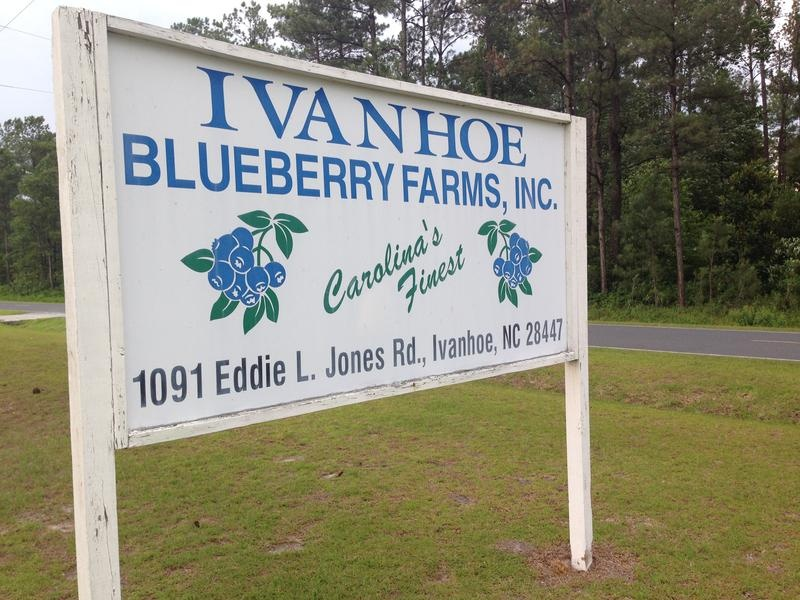text: (321, 206, 336, 323), (337, 206, 352, 323), (353, 206, 368, 323), (369, 206, 384, 323), (385, 206, 400, 323), (401, 206, 416, 323), (417, 206, 432, 323), (433, 206, 448, 323), (193, 66, 208, 169), (209, 66, 224, 169), (225, 66, 240, 169), (241, 66, 256, 169), (257, 66, 272, 169), (273, 66, 288, 169), (289, 66, 304, 169), (305, 66, 320, 169), (321, 66, 336, 169), (337, 66, 352, 169), (353, 66, 368, 169), (369, 66, 384, 169), (385, 66, 400, 169), (401, 66, 416, 169), (417, 66, 432, 169), (433, 66, 448, 169), (449, 66, 464, 169), (465, 66, 480, 169), (481, 66, 496, 169), (497, 66, 512, 169), (513, 66, 528, 169), (393, 242, 408, 319), (409, 242, 424, 319), (425, 242, 440, 319), (441, 242, 456, 319), (457, 242, 472, 319), (115, 132, 130, 203), (131, 132, 146, 203), (147, 132, 162, 203), (163, 132, 178, 203), (179, 132, 194, 203), (195, 132, 210, 203), (211, 132, 226, 203), (227, 132, 242, 203), (243, 132, 258, 203), (259, 132, 274, 203), (275, 132, 290, 203), (291, 132, 306, 203), (307, 132, 322, 203), (323, 132, 338, 203), (339, 132, 354, 203), (355, 132, 370, 203), (371, 132, 386, 203), (387, 132, 402, 203), (399, 165, 414, 217), (415, 165, 430, 217), (431, 165, 446, 217), (447, 165, 462, 217), (463, 165, 478, 217), (479, 165, 494, 217), (495, 165, 510, 217), (128, 361, 143, 410), (144, 361, 159, 410), (160, 361, 175, 410), (176, 361, 191, 410), (192, 361, 207, 410), (211, 351, 226, 397), (227, 351, 242, 397), (243, 351, 258, 397), (259, 351, 274, 397), (275, 351, 290, 397), (423, 326, 438, 363), (439, 326, 454, 363), (455, 326, 470, 363), (471, 326, 486, 363), (487, 326, 502, 363), (291, 350, 306, 386), (307, 350, 322, 386), (512, 176, 527, 211), (528, 176, 543, 211), (544, 176, 559, 211), (324, 345, 339, 380), (340, 345, 355, 380), (356, 345, 371, 380), (372, 345, 387, 380), (386, 336, 401, 369), (402, 336, 417, 369), (418, 336, 433, 369), (496, 323, 511, 351), (512, 323, 527, 351), (520, 318, 535, 346), (536, 318, 551, 346), (552, 318, 567, 346)
